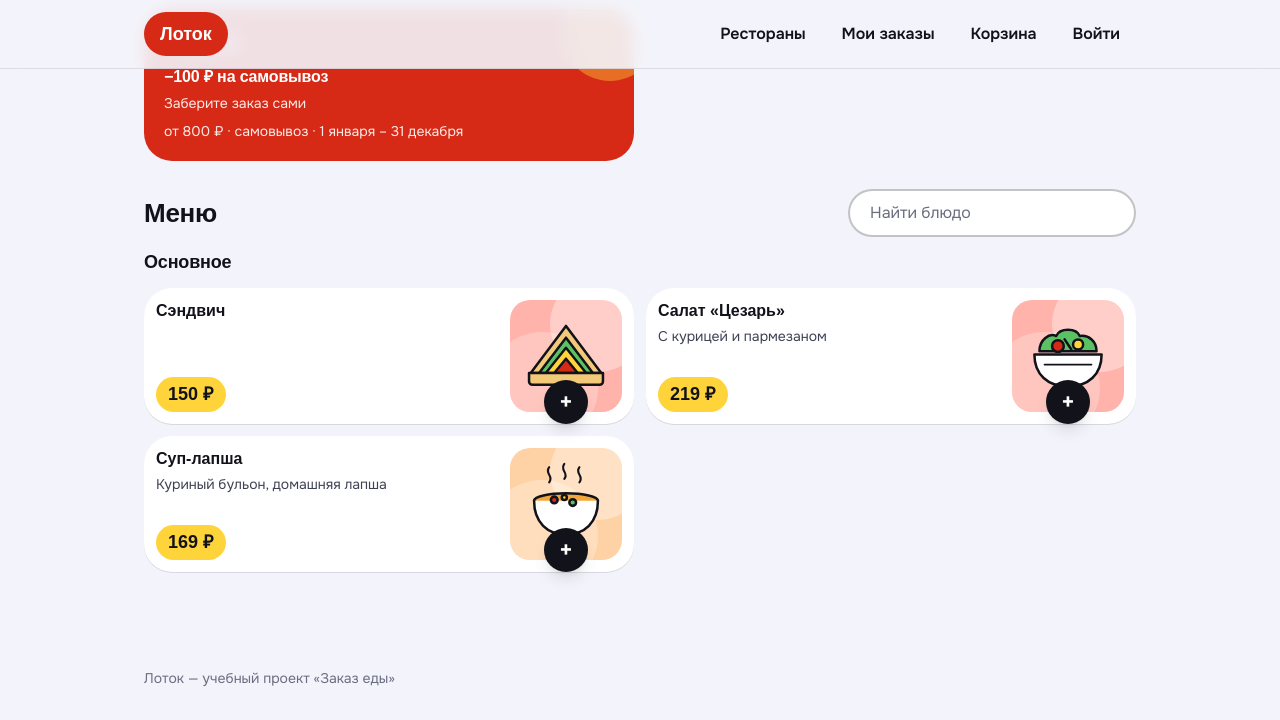
Test case: оформление: коды ошибок → поведение экрана › ресторан без доставки: пункт «Доставка» отключён с пояснением (B-06)
The width and height of the screenshot is (1280, 720).
(page scrolled)
Click the button named "Добавить «Сэндвич»".
click(566, 402)  # box [544, 380, 588, 424]
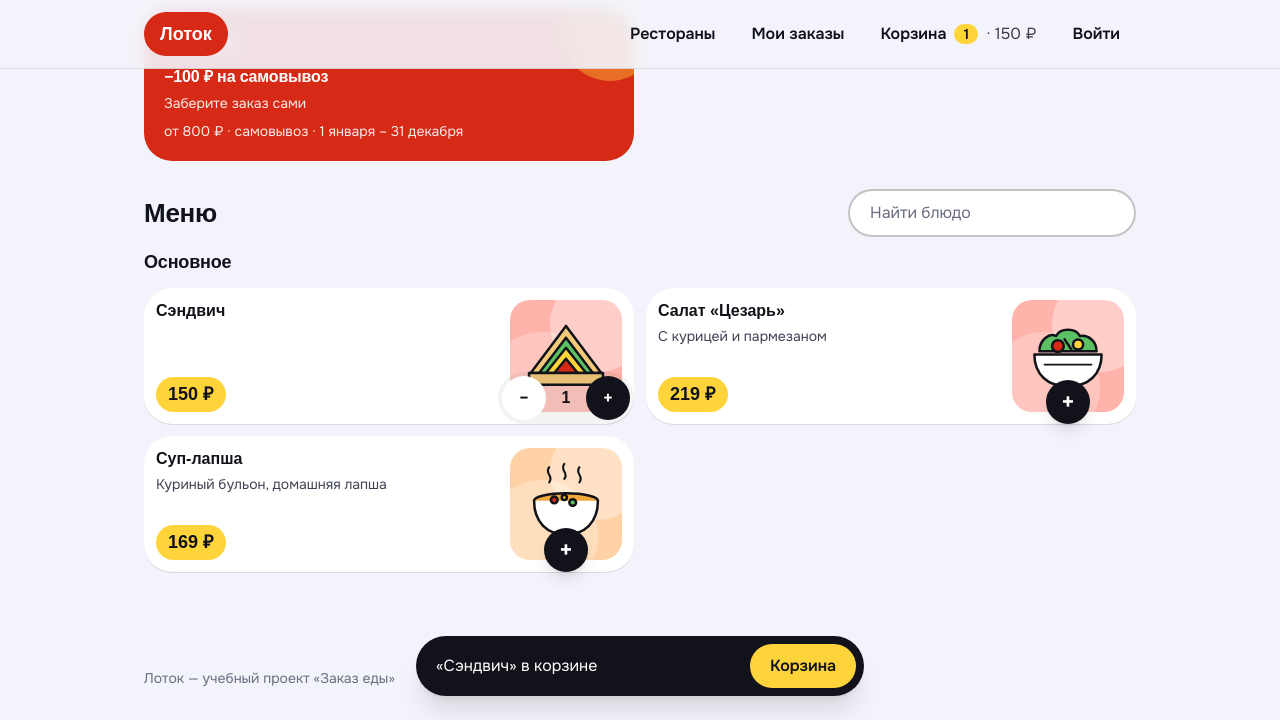
Expected: the text "«Сэндвич» в корзине" is shown, [436, 654, 597, 678]
Click the button "Корзина".
click(803, 666)  # box [750, 644, 856, 688]
(page scrolled)
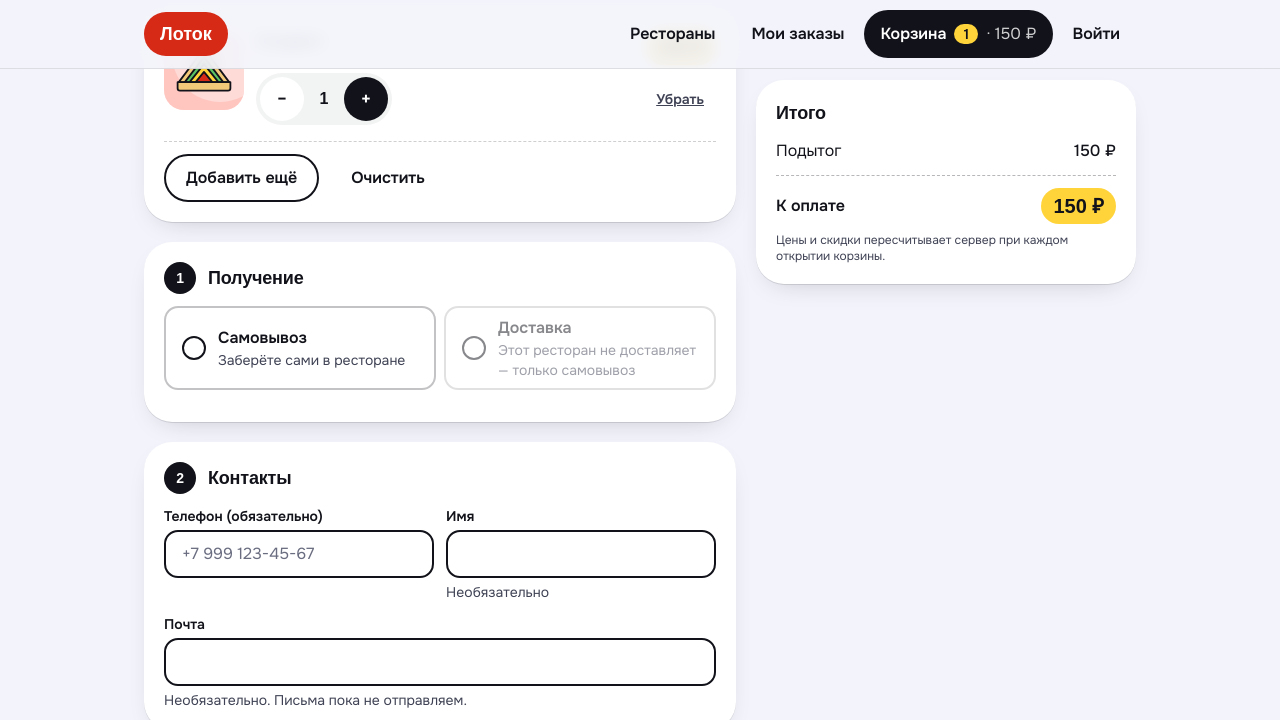
Expected: the radio button labelled "Доставка" is disabled, [444, 306, 716, 390]
Expected: the text "Этот ресторан не доставляет — только самовывоз" is shown, [498, 340, 698, 380]
Expected: the radio button labelled "Самовывоз" is enabled, [164, 306, 436, 390]
